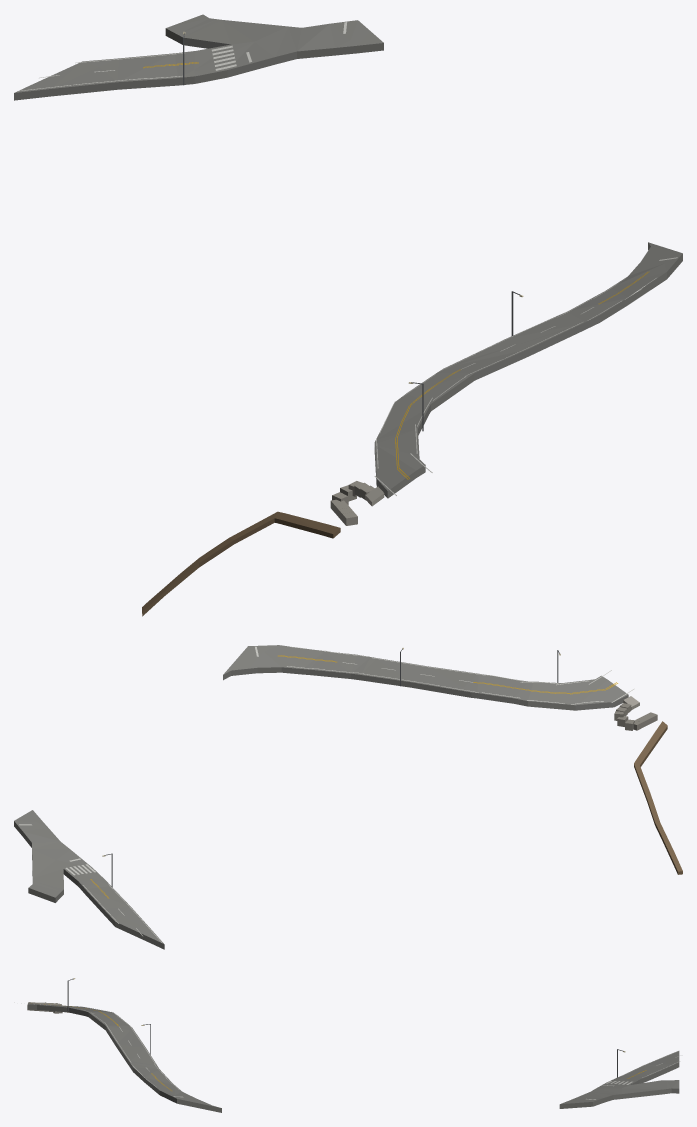
The picture shows the model from 3 angles, top to bottom: view 1: azimuth 30°, elevation 25°; view 2: azimuth 150°, elevation 25°; view 3: azimuth 270°, elevation 25°; orthographic projection. The views are drawn at different scales.
Size of the model in its own units: 94.62 by 35.4 by 150.
